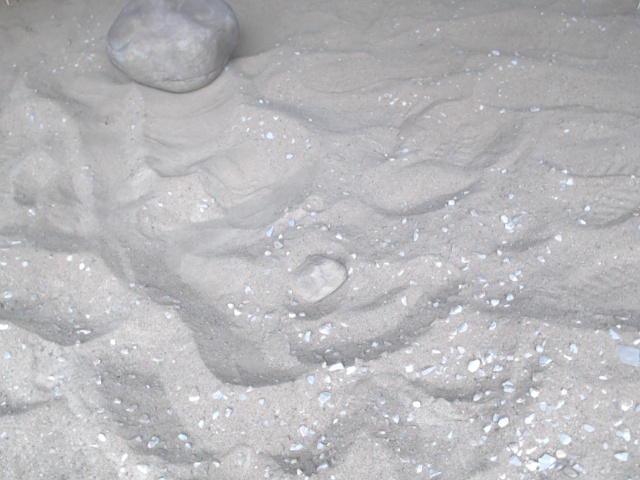rock: (100, 1, 247, 99), (284, 250, 352, 307)
